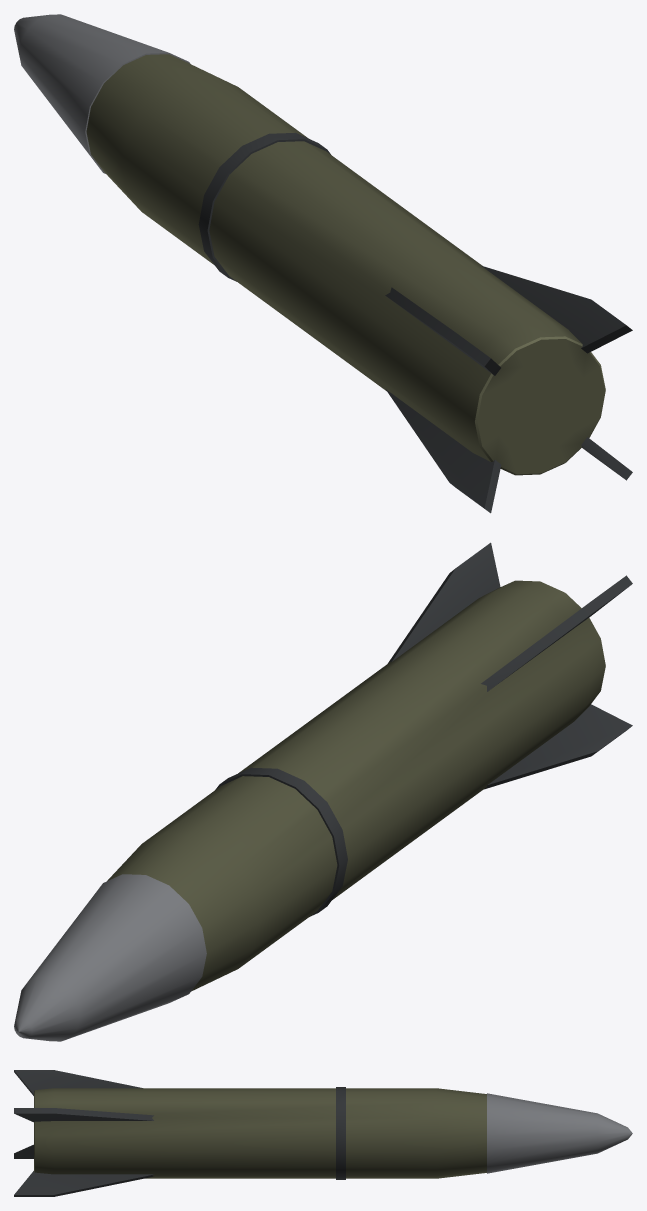
The model's file is rocket_load.glb.
The picture shows the model from 3 angles, top to bottom: view 1: azimuth 30°, elevation 25°; view 2: azimuth 150°, elevation 25°; view 3: azimuth 270°, elevation 25°; orthographic projection. The views are drawn at different scales.
Parts seen in each view (by area): view 1: Body; view 2: Body; view 3: Body.
Part boxes in pixels (x1=…): Body: x1=14, y1=14, x2=632, y2=513; Body: x1=14, y1=542, x2=632, y2=1041; Body: x1=14, y1=1070, x2=632, y2=1196.
Size of the model in its own units: 0.0976 by 0.0976 by 0.615.
